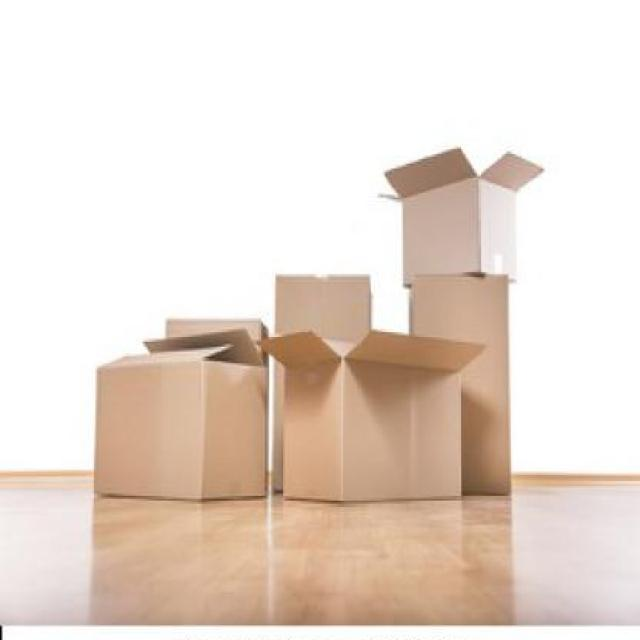box: (255, 306, 498, 517), (82, 328, 278, 523), (396, 269, 536, 496), (376, 130, 553, 301), (260, 257, 377, 342)
